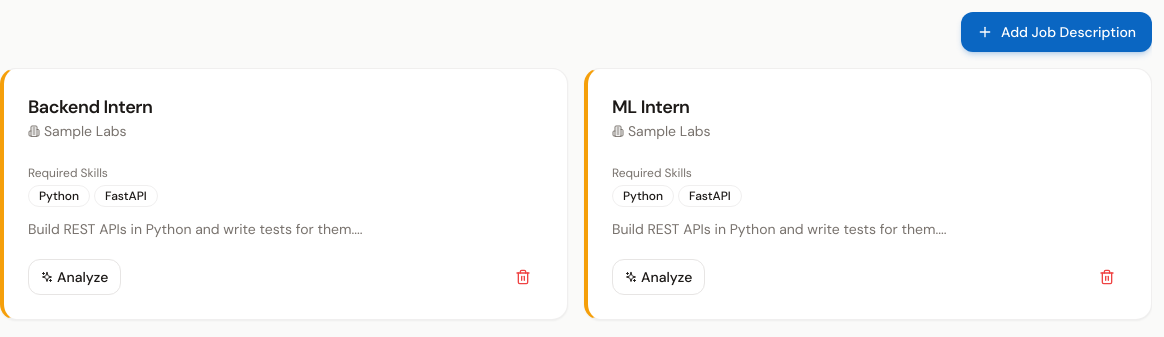
Test case: JobsList › spins only the card being analyzed
The width and height of the screenshot is (1164, 337).
Click the button "Analyze" below "Backend Intern". click: {"x": 75, "y": 277}
box: [28,259,122,295]
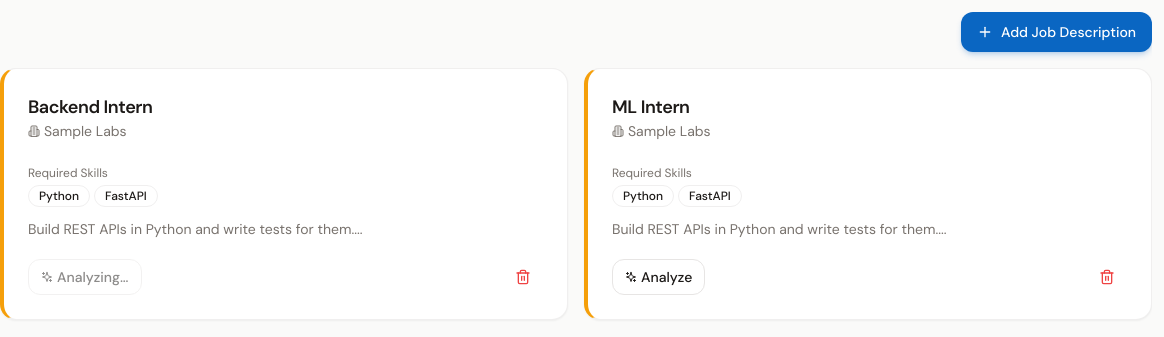
Expected: the button "Analyze" is enabled, [612,259,706,295]
Now the button "Analyzing…" is disabled, box [28,259,142,295]
